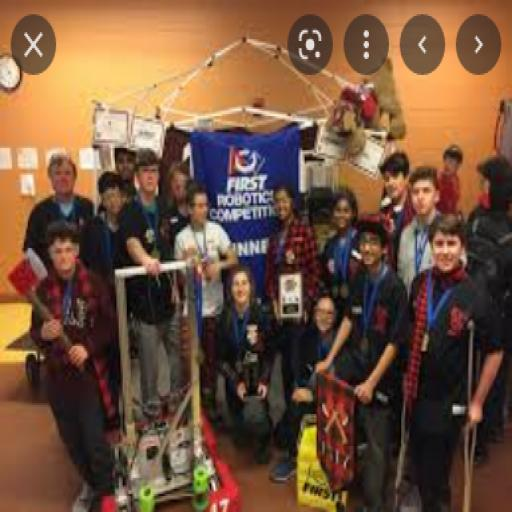robot: (90, 289, 246, 510)
